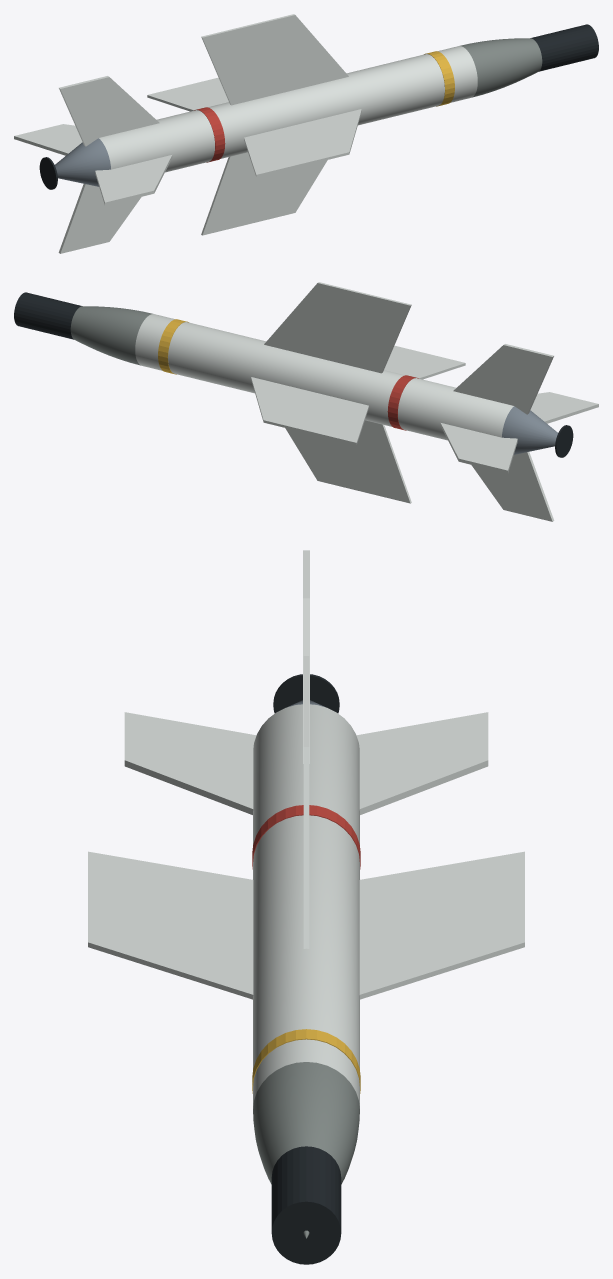
File: p800_oniks.glb
The picture shows the model from 3 angles, top to bottom: view 1: azimuth 30°, elevation 25°; view 2: azimuth 150°, elevation 25°; view 3: azimuth 270°, elevation 25°; orthographic projection. The views are drawn at different scales.
Visible parts, largest first — view 1: p800_oniks; view 2: p800_oniks; view 3: p800_oniks.
Part boxes in pixels (x1,y1,x2,y2): p800_oniks: (14, 14, 598, 253); p800_oniks: (14, 282, 598, 521); p800_oniks: (88, 550, 524, 1264).
Size of the model in its own units: 10 by 3.45 by 3.45.
